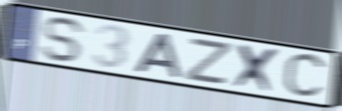3: (92, 23, 134, 72)
A: (132, 31, 186, 81)
C: (281, 51, 330, 102)
S: (40, 15, 89, 65)
X: (231, 42, 284, 96)
Z: (182, 37, 235, 88)
